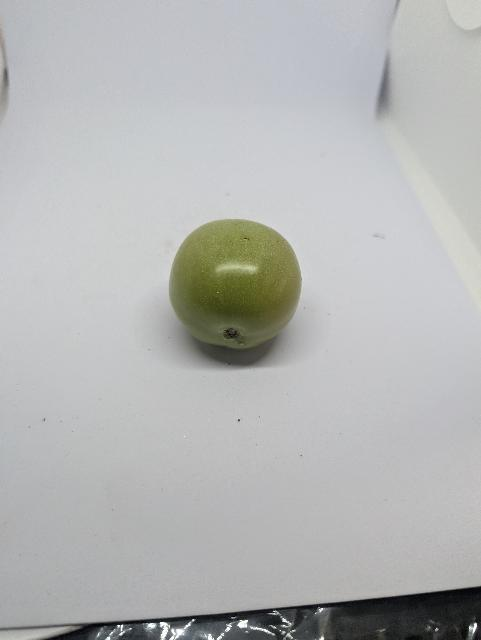green: (167, 215, 304, 353)
